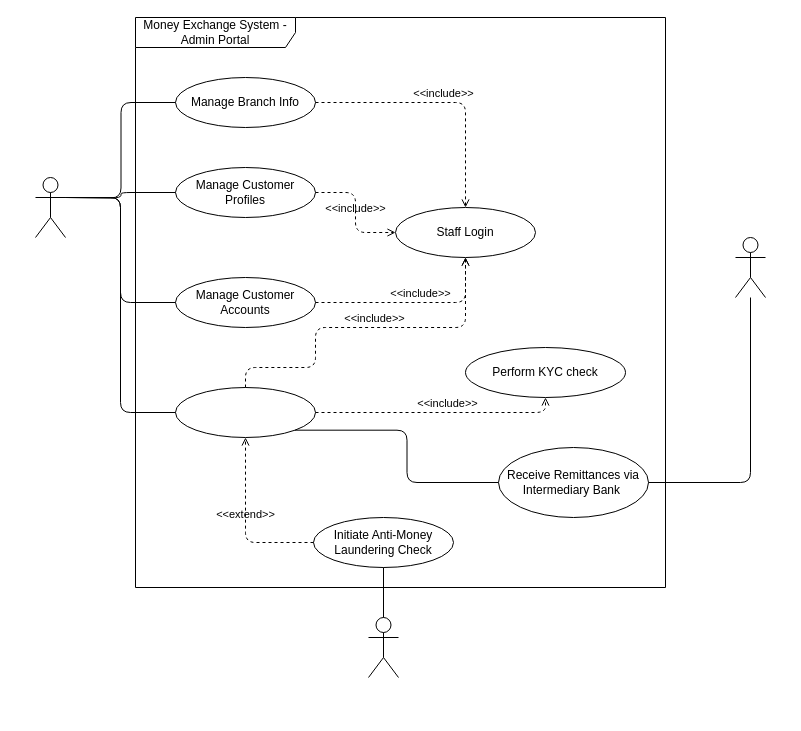
Image size: 801x731. Some labels were removed from this diagram. The shapes that lost their labels are listed below. From the top down, each one's centre as x and y in pixels, then its label:
(x=50, y=207): Branch Staff
(x=750, y=267): Intermediary Bank
(x=245, y=412): Review customer transactions
(x=383, y=647): Anti-Money Laundering (AML) System
